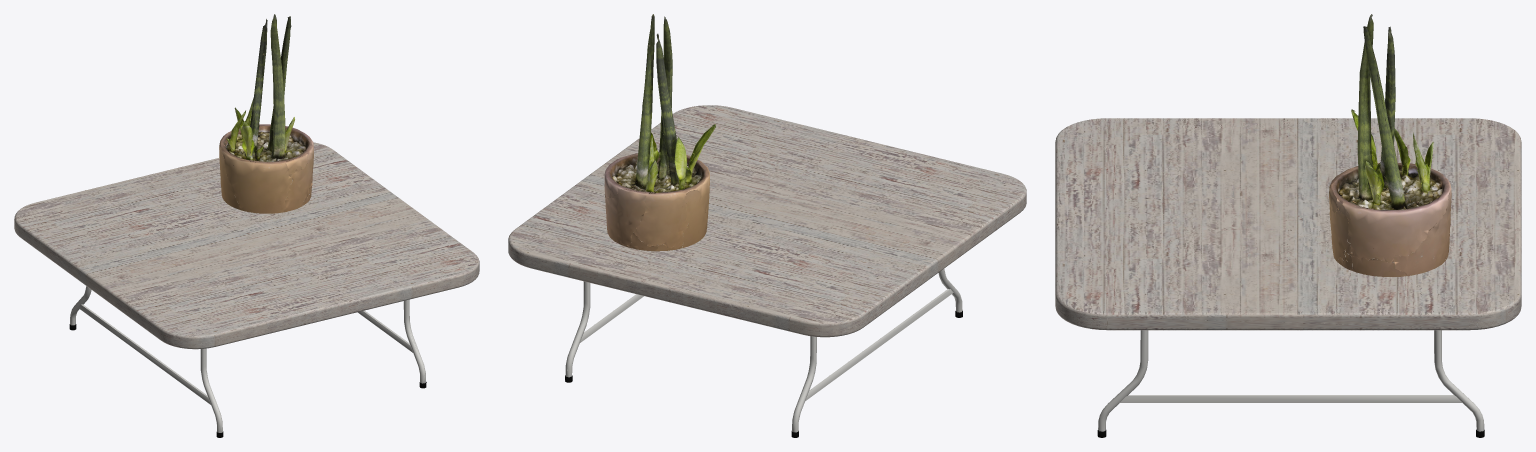
The picture shows the model from 3 angles, left to right: view 1: azimuth 30°, elevation 25°; view 2: azimuth 150°, elevation 25°; view 3: azimuth 270°, elevation 25°; orthographic projection. The views are drawn at different scales.
Parts seen in each view (by area): view 1: Cube.005, Object_0, defaultMaterial.001; view 2: Cube.005, Object_0, defaultMaterial.001; view 3: Cube.005, Object_0, defaultMaterial.001.
Boxes of the visible parts, <box> form: Cube.005: <box>14,142,479,349</box>; Object_0: <box>219,14,313,213</box>; defaultMaterial.001: <box>69,286,426,437</box>; Cube.005: <box>508,105,1026,337</box>; Object_0: <box>604,14,715,251</box>; defaultMaterial.001: <box>565,269,962,437</box>; Cube.005: <box>1055,118,1521,330</box>; Object_0: <box>1329,14,1451,276</box>; defaultMaterial.001: <box>1097,330,1484,437</box>.
Size of what is drawn, in the model's own units: 0.4914 by 0.4594 by 0.4914.
3 materials, 3 textured.
